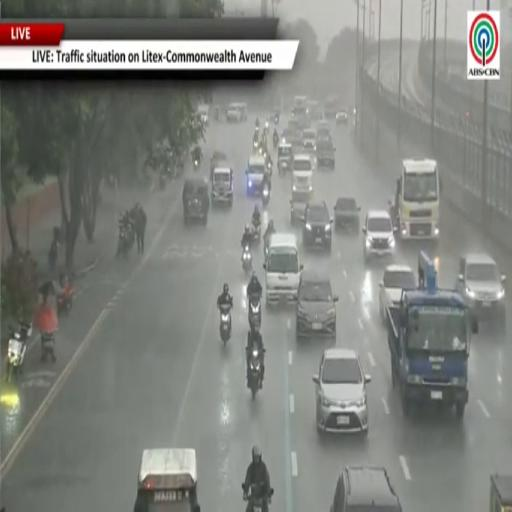car: (313, 348, 371, 435), (456, 253, 506, 327), (330, 467, 402, 511), (296, 270, 338, 339), (379, 264, 417, 322), (363, 211, 395, 262), (303, 202, 333, 251), (183, 178, 209, 225), (245, 155, 267, 196), (334, 198, 360, 232), (316, 138, 336, 170), (290, 200, 306, 226), (227, 103, 247, 122), (324, 95, 338, 119), (302, 130, 316, 153), (317, 121, 331, 139), (281, 128, 295, 145), (198, 105, 209, 126), (336, 109, 348, 124)
jeepney: (134, 448, 200, 511), (212, 167, 233, 205), (490, 474, 511, 511), (277, 143, 293, 173)
motorcycle: (6, 323, 32, 381), (242, 484, 273, 511), (248, 347, 261, 399), (57, 285, 74, 316), (248, 294, 261, 331), (41, 331, 56, 362), (220, 304, 230, 344), (117, 228, 130, 257), (242, 246, 252, 274), (117, 229, 127, 257), (264, 232, 273, 261), (251, 223, 260, 243), (262, 185, 269, 206), (159, 173, 166, 190), (267, 158, 272, 175), (194, 158, 200, 171), (273, 135, 278, 149), (254, 136, 258, 150), (274, 114, 279, 124), (265, 121, 269, 130), (255, 124, 259, 133)
truck: (387, 251, 478, 418), (390, 158, 440, 242)
